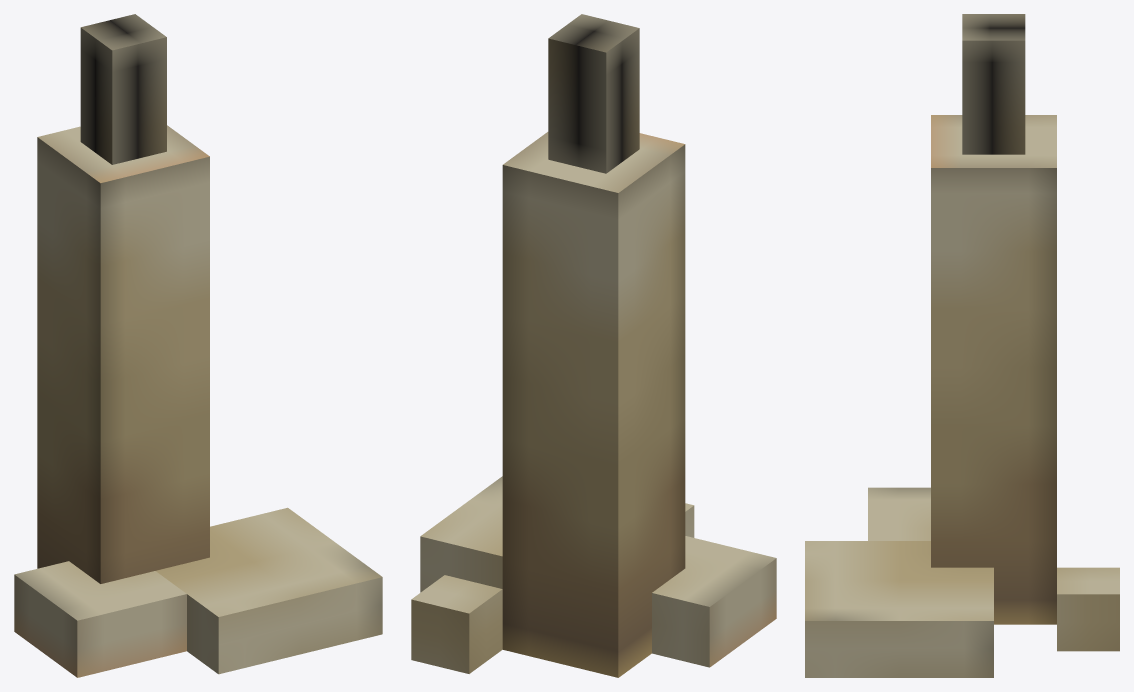
Rendered from candle_arrangement_08.fbx.
3 views of the same model, side by side, from view 1: azimuth 30°, elevation 25°; view 2: azimuth 150°, elevation 25°; view 3: azimuth 270°, elevation 25° (orthographic). The views are drawn at different scales.
Parts seen in each view (by area): view 1: candle_arrangement_08; view 2: candle_arrangement_08; view 3: candle_arrangement_08.
Boxes of the visible parts, bbox=[...] form: candle_arrangement_08: bbox=[14, 14, 382, 677]; candle_arrangement_08: bbox=[411, 14, 776, 677]; candle_arrangement_08: bbox=[805, 14, 1119, 677].
Bounding box in the file's own units: 5 × 10 × 5.
